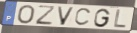C: (74, 7, 93, 27)
G: (93, 8, 112, 28)
L: (112, 9, 127, 29)
O: (17, 5, 37, 25)
V: (56, 6, 76, 26)
Z: (36, 5, 57, 26)
